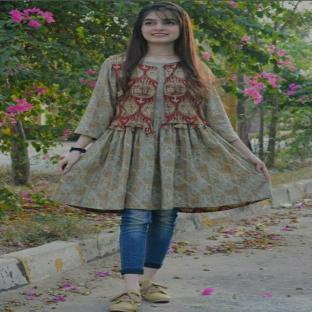Human: (53, 2, 271, 312)
